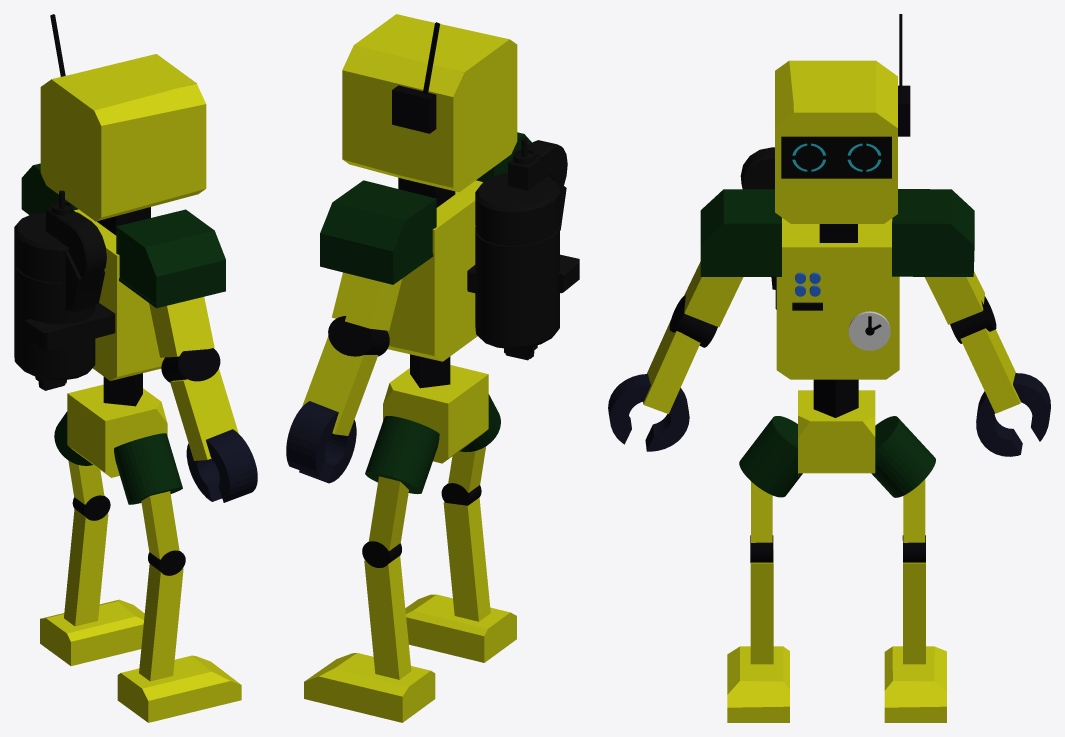
File: MEBIZO-.obj
3 views of the same model, side by side, from view 1: azimuth 30°, elevation 25°; view 2: azimuth 150°, elevation 25°; view 3: azimuth 270°, elevation 25° (orthographic). The views are drawn at different scales.
Visible parts, largest first — view 1: 立方体.011_立方体.013, Circle.014_Circle.009, 立方体.016_立方体.023, 立方体.007_立方体.008, 立方体.005_立方体.006, 立方体.014_立方体.016, 立方体.015_立方体.017, 立方体, 立方体.004_立方体.005, 円柱_円柱.020, 立方体.009_立方体.011, 円柱.002 (+10 smaller); view 2: 立方体.011_立方体.013, Circle.014_Circle.009, 立方体.007_立方体.008, 立方体.020_立方体.027, 立方体.005_立方体.006, 立方体.015_立方体.017, 立方体.014_立方体.016, 立方体, 立方体.004_立方体.005, 円柱.017_円柱.022, 円柱.003_円柱.004, 立方体.012_立方体.014 (+11 smaller); view 3: 立方体.007_立方体.008, 立方体.011_立方体.013, 立方体.020_立方体.027, 立方体.016_立方体.023, 立方体.005_立方体.006, 立方体.014_立方体.016, 立方体.015_立方体.017, 円柱.003_円柱.004, 円柱.002, 立方体.022_立方体.018, 円柱_円柱.020, 円柱.017_円柱.022 (+14 smaller).
Boxes of the visible parts, x1,y1,x2,y2 form: 立方体.011_立方体.013: [40, 54, 206, 221]; Circle.014_Circle.009: [14, 190, 115, 390]; 立方体.016_立方体.023: [116, 209, 225, 308]; 立方体.007_立方体.008: [74, 209, 164, 380]; 立方体.005_立方体.006: [67, 384, 167, 477]; 立方体.014_立方体.016: [117, 655, 241, 722]; 立方体.015_立方体.017: [40, 599, 144, 665]; 立方体: [139, 564, 183, 681]; 立方体.004_立方体.005: [64, 509, 108, 626]; 円柱_円柱.020: [186, 429, 257, 502]; 立方体.009_立方体.011: [170, 369, 238, 460]; 円柱.002: [114, 433, 182, 504]; 立方体.011_立方体.013: [342, 14, 517, 192]; Circle.014_Circle.009: [467, 138, 579, 360]; 立方体.007_立方体.008: [387, 180, 482, 361]; 立方体.020_立方体.027: [320, 180, 436, 284]; 立方体.005_立方体.006: [383, 365, 488, 463]; 立方体.015_立方体.017: [304, 653, 435, 722]; 立方体.014_立方体.016: [405, 594, 516, 662]; 立方体: [443, 497, 490, 621]; 立方体.004_立方体.005: [364, 556, 411, 679]; 円柱.017_円柱.022: [286, 401, 356, 483]; 円柱.003_円柱.004: [365, 416, 439, 494]; 立方体.012_立方体.014: [302, 336, 378, 435]; 立方体.007_立方体.008: [776, 218, 899, 379]; 立方体.011_立方体.013: [775, 60, 897, 223]; 立方体.020_立方体.027: [892, 189, 974, 276]; 立方体.016_立方体.023: [700, 189, 781, 276]; 立方体.005_立方体.006: [798, 390, 875, 476]; 立方体.014_立方体.016: [727, 646, 789, 722]; 立方体.015_立方体.017: [884, 646, 946, 722]; 円柱.003_円柱.004: [871, 416, 935, 497]; 円柱.002: [739, 416, 802, 497]; 立方体.022_立方体.018: [781, 136, 891, 178]; 円柱_円柱.020: [608, 374, 689, 451]; 円柱.017_円柱.022: [976, 373, 1050, 456].
Bounding box in the file's own units: 3.37 × 11.79 × 7.2.
